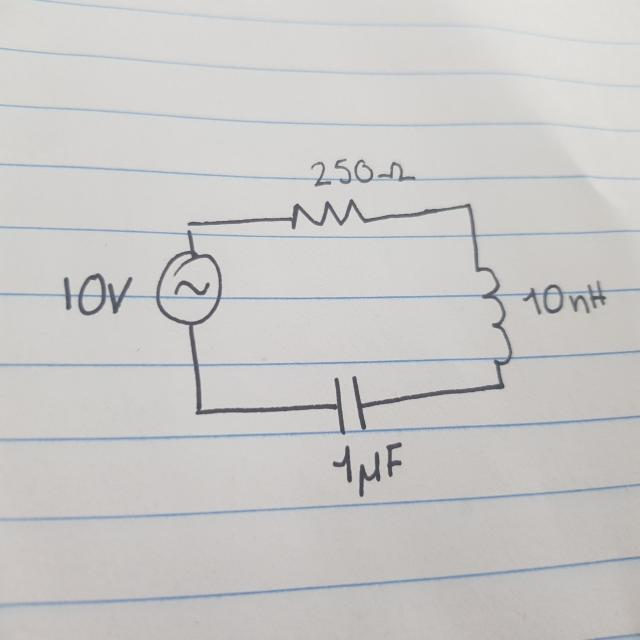capacitor: (329, 367, 371, 441)
inductor: (468, 260, 514, 367)
junction: (190, 397, 207, 423), (180, 217, 202, 237), (459, 198, 478, 219), (491, 380, 506, 396)
resistor: (289, 193, 371, 235)
source: (154, 252, 224, 333)
text: (331, 445, 403, 498), (308, 156, 416, 187), (520, 278, 608, 316), (60, 271, 133, 315)
